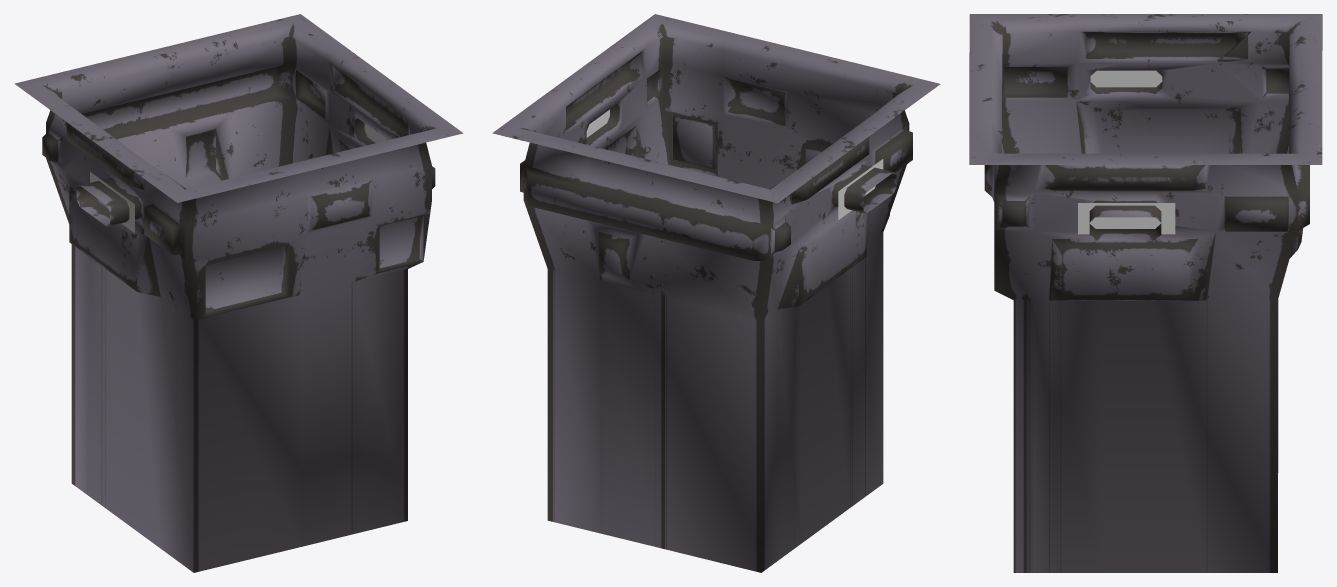
The model's file is DiscrictWall.fbx.
3 renders of one model, left to right at view 1: azimuth 30°, elevation 25°; view 2: azimuth 150°, elevation 25°; view 3: azimuth 270°, elevation 25°, orthographic. The views are drawn at different scales.
Parts seen in each view (by area): view 1: DistrictWall; view 2: DistrictWall; view 3: DistrictWall, PhasePass, PhasePass.001.
Boxes of the visible parts, x1,y1,x2,y2 form: DistrictWall: (14, 14, 463, 572); DistrictWall: (492, 14, 940, 572); DistrictWall: (969, 14, 1322, 572); PhasePass: (1078, 203, 1175, 234); PhasePass.001: (1090, 70, 1162, 87).
Bounding box in the file's own units: 2236 × 2734 × 2044.
